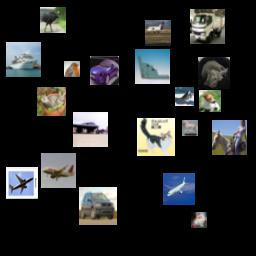airplane: (135, 49, 170, 84), (41, 153, 76, 188), (73, 112, 108, 147), (6, 167, 38, 199), (163, 173, 195, 205), (145, 20, 171, 46)
automobile: (79, 187, 117, 225), (90, 56, 119, 85)
bird: (40, 7, 66, 33), (175, 87, 194, 106), (64, 61, 80, 77)
cat: (137, 118, 175, 156), (198, 57, 230, 89), (37, 87, 66, 116)
dog: (199, 90, 221, 112), (191, 212, 207, 228)
ship: (6, 42, 41, 77)
truck: (190, 9, 225, 44)
